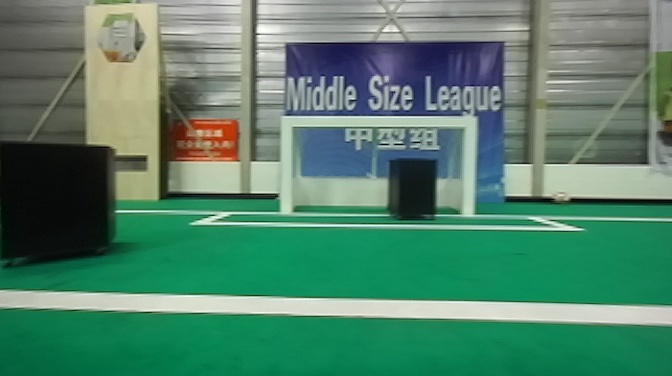ball: (549, 182, 585, 205)
goalpost: (283, 115, 297, 214), (463, 121, 477, 219)
